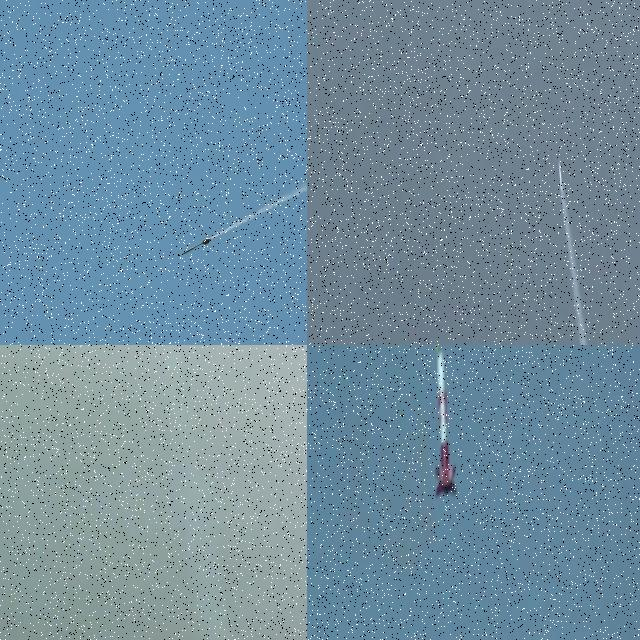Rocket: (434, 353, 457, 496), (181, 237, 212, 255), (558, 161, 562, 183)
